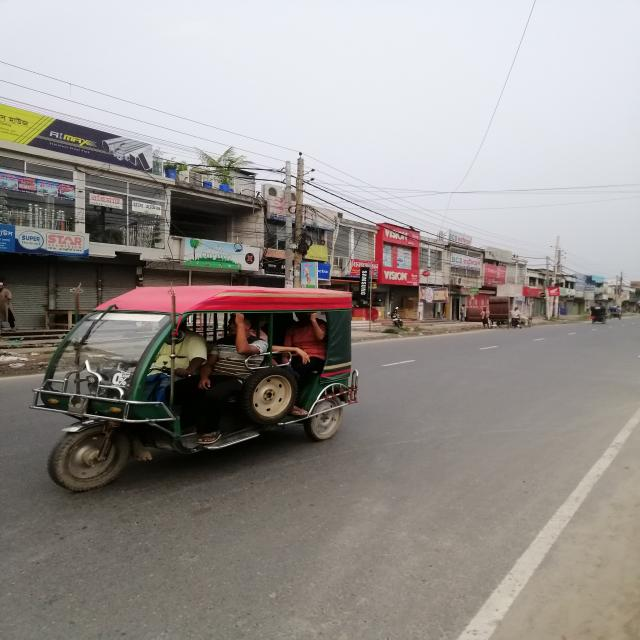Easybike: (31, 279, 361, 496)
